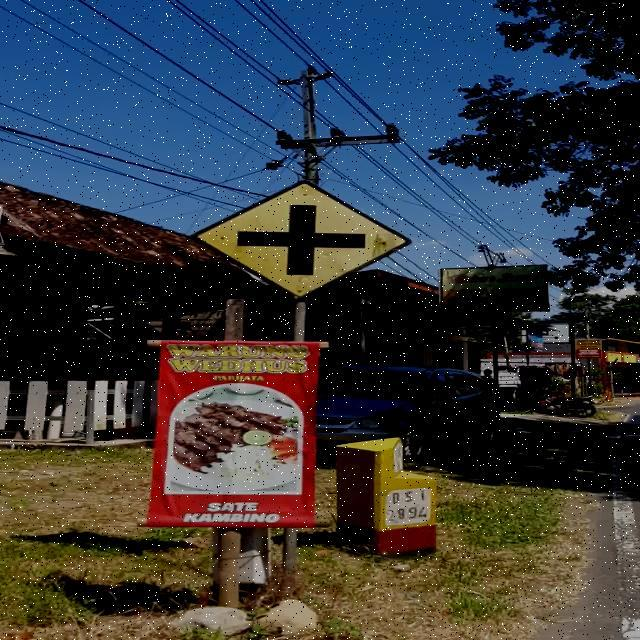Persimpangan 4: (191, 180, 412, 300)
